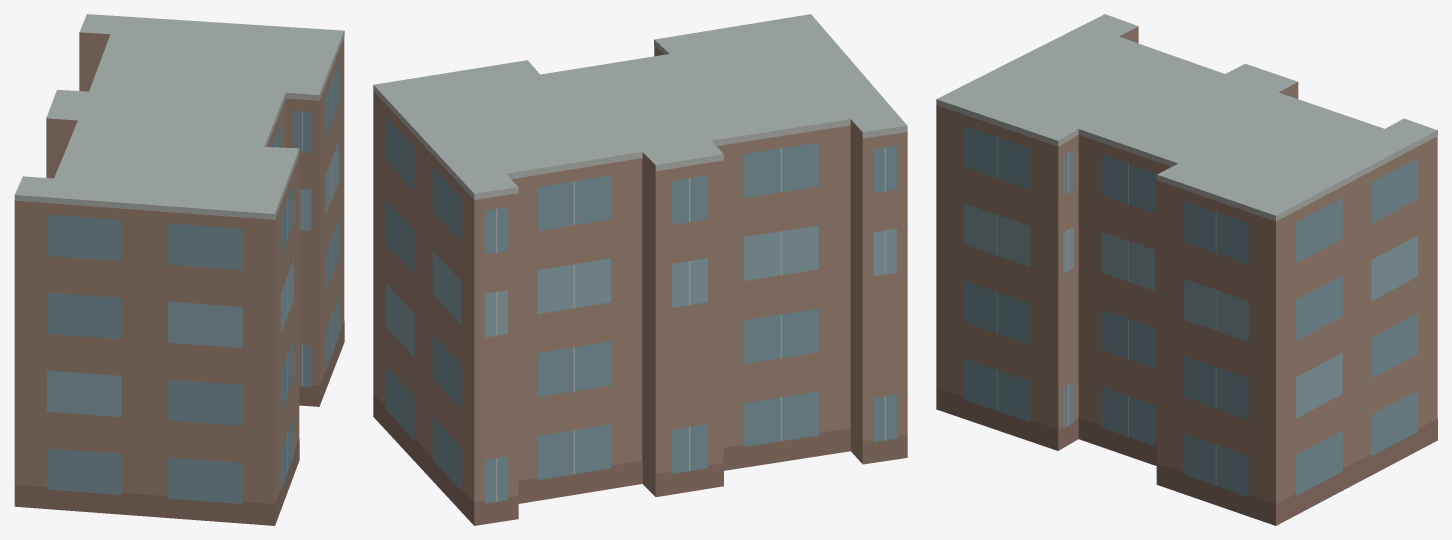
File: survey-upis-32708705.glb
3 views of the same model, side by side, from view 1: azimuth 30°, elevation 25°; view 2: azimuth 150°, elevation 25°; view 3: azimuth 270°, elevation 25° (orthographic). The views are drawn at different scales.
Visible parts, largest first — view 1: survey-upis-32708705.tmp; view 2: survey-upis-32708705.tmp; view 3: survey-upis-32708705.tmp.
Boxes of the visible parts, bbox=[...] form: survey-upis-32708705.tmp: bbox=[14, 14, 344, 525]; survey-upis-32708705.tmp: bbox=[373, 14, 907, 525]; survey-upis-32708705.tmp: bbox=[936, 14, 1437, 525].
Bounding box in the file's own units: 18.22 × 13.05 × 19.13.
